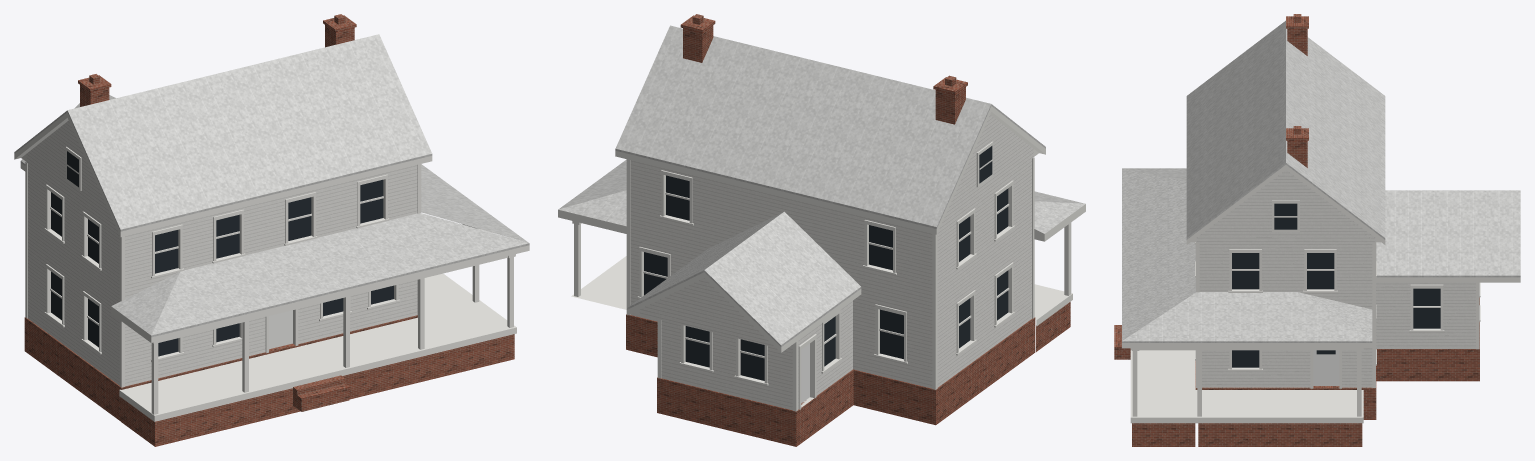
File: house-farmhouse.glb
3 views of the same model, side by side, from view 1: azimuth 30°, elevation 25°; view 2: azimuth 150°, elevation 25°; view 3: azimuth 270°, elevation 25° (orthographic). The views are drawn at different scales.
Visible parts, largest first — view 1: House; view 2: House; view 3: House.
Part boxes in pixels (x1,y1,x2,y2): House: (14,14,529,446); House: (558,14,1085,446); House: (1114,14,1520,446).
Bounding box in the file's own units: 14.2 × 10.73 × 14.11.
6 materials, 3 textured.
